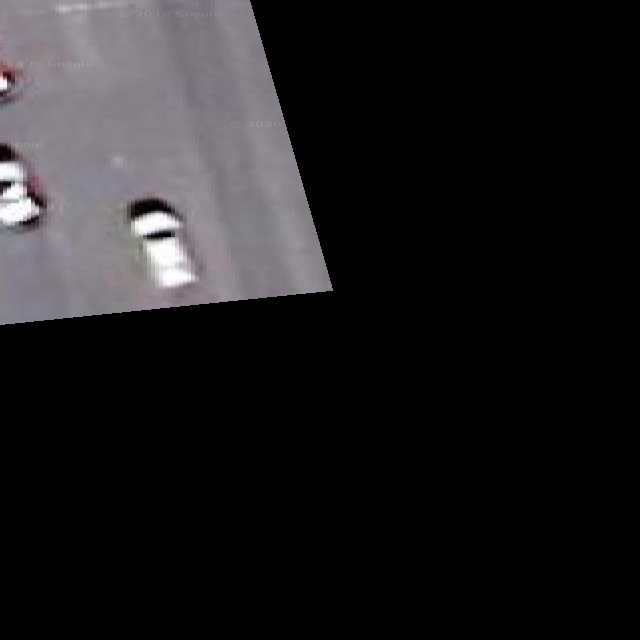car: (125, 198, 196, 287), (0, 143, 44, 226), (0, 60, 22, 103)
